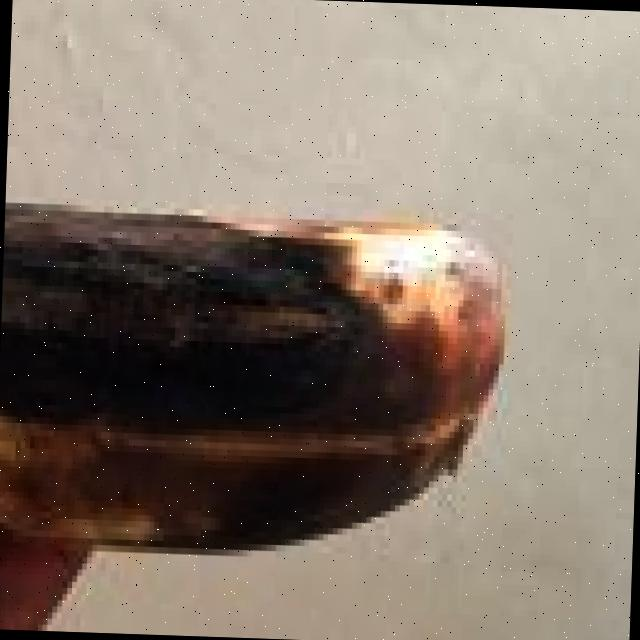Bad_Banana-0 day: (0, 209, 503, 550)
